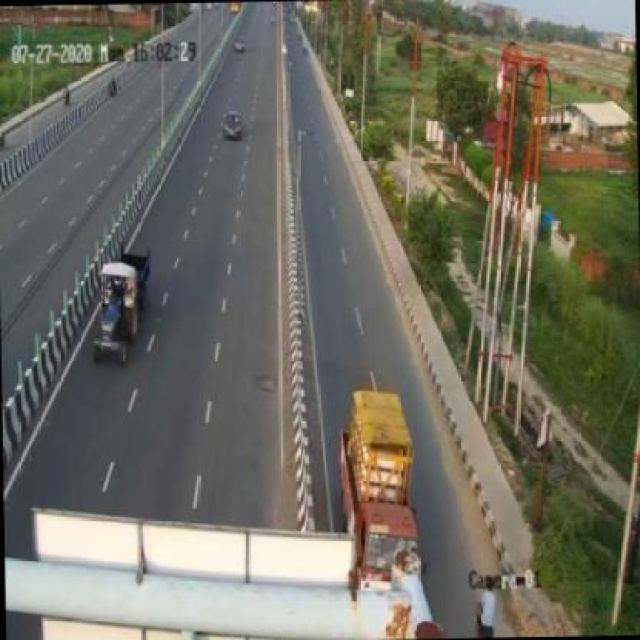car: (219, 106, 243, 146)
